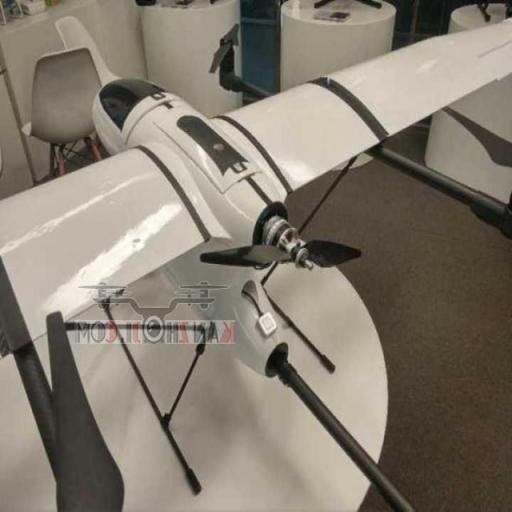uav: (0, 2, 511, 359)
